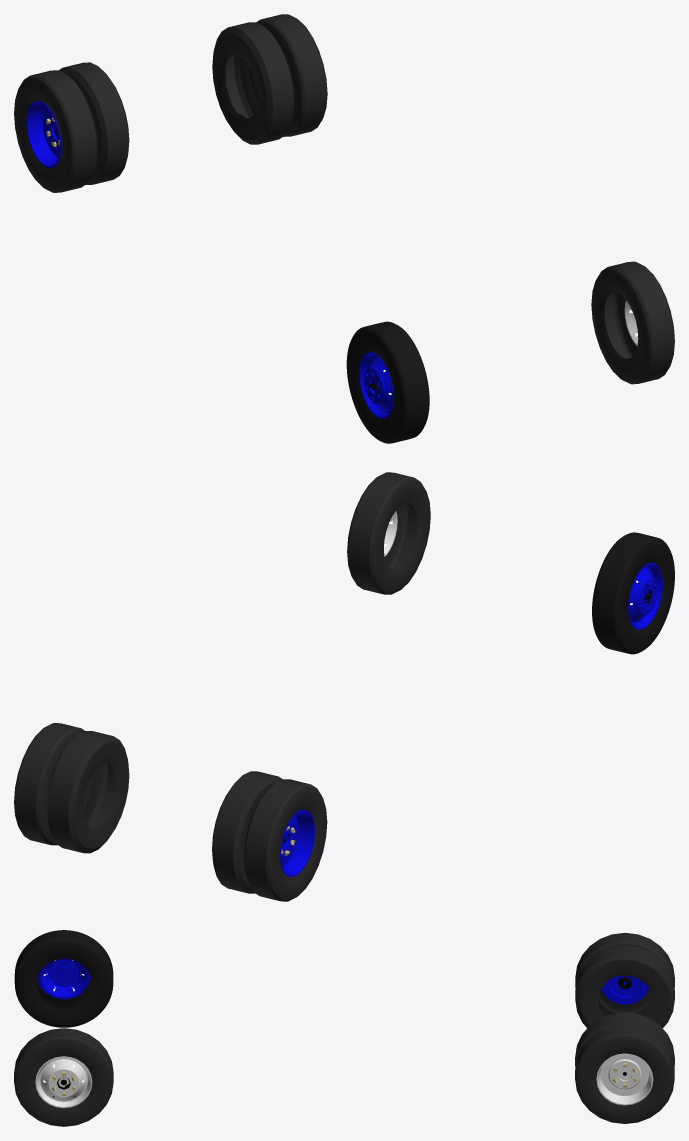
File: containertruckwheels.fbx
3 views of the same model, one above another, from view 1: azimuth 30°, elevation 25°; view 2: azimuth 150°, elevation 25°; view 3: azimuth 270°, elevation 25° (orthographic). The views are drawn at different scales.
Parts seen in each view (by area): view 1: Isuzu.011, Isuzu.013, Isuzu.010, Isuzu.012; view 2: Isuzu.011, Isuzu.013, Isuzu.010, Isuzu.012; view 3: Isuzu.011, Isuzu.010, Isuzu.012, Isuzu.013.
Boxes of the visible parts, <box> form: Isuzu.011: <box>212,14,327,144</box>; Isuzu.013: <box>14,62,129,192</box>; Isuzu.010: <box>591,261,674,384</box>; Isuzu.012: <box>346,321,429,443</box>; Isuzu.011: <box>14,723,129,853</box>; Isuzu.013: <box>212,771,327,901</box>; Isuzu.010: <box>347,472,430,594</box>; Isuzu.012: <box>592,532,674,654</box>; Isuzu.011: <box>575,1012,674,1123</box>; Isuzu.010: <box>14,1028,113,1126</box>; Isuzu.012: <box>14,930,113,1027</box>; Isuzu.013: <box>575,933,674,1028</box>.
Size of the model in its own units: 62.58 by 23.47 by 156.
